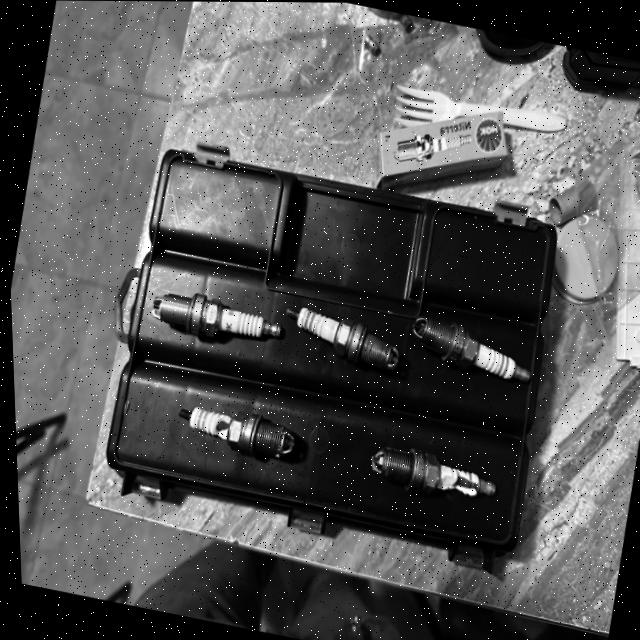damaged_spark-plug: (167, 389, 300, 472), (364, 441, 505, 504)
spark-plug: (402, 303, 536, 392), (270, 293, 403, 377), (143, 291, 281, 354)
